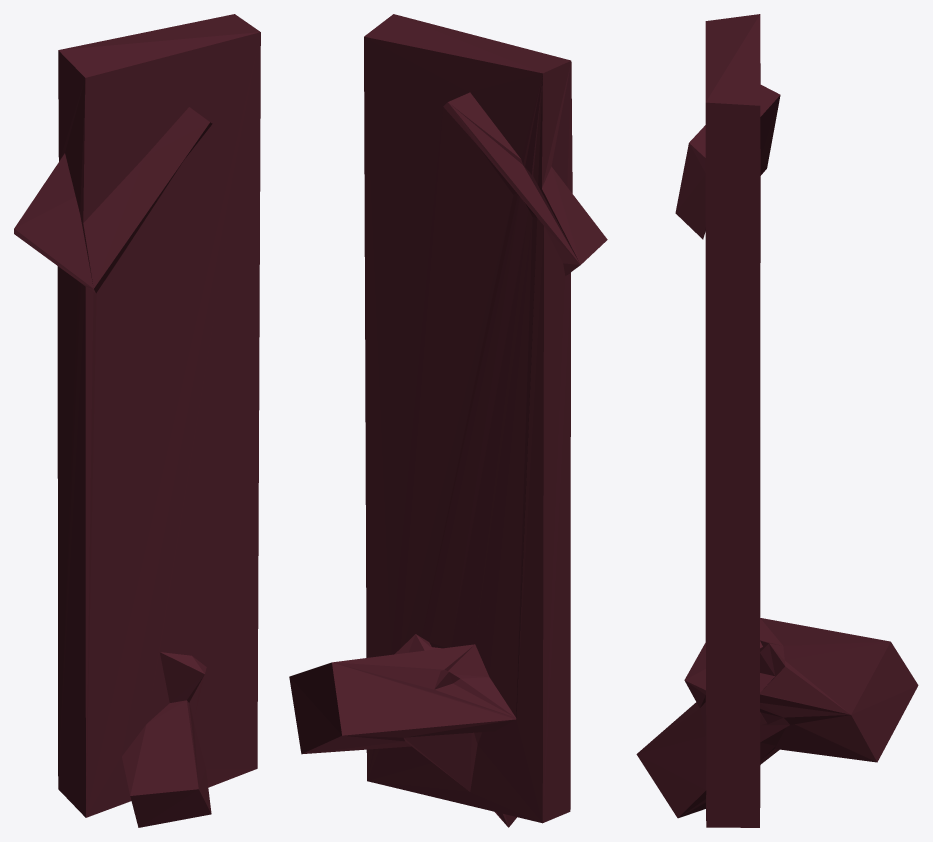
3 renders of one model, left to right at view 1: azimuth 30°, elevation 25°; view 2: azimuth 150°, elevation 25°; view 3: azimuth 270°, elevation 25°, orthographic. The views are drawn at different scales.
Visible parts, largest first — view 1: 479_Cube.1944; view 2: 479_Cube.1944; view 3: 479_Cube.1944.
Boxes of the visible parts, x1,y1,x2,y2 form: 479_Cube.1944: (14,14,260,827); 479_Cube.1944: (289,14,607,827); 479_Cube.1944: (636,14,918,827).
Bounding box in the file's own units: 4.41 × 12.64 × 4.23.
